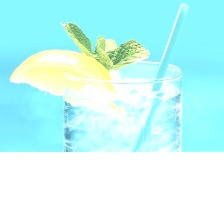drinking_straw: (130, 0, 192, 154)
glass: (56, 59, 187, 152)
